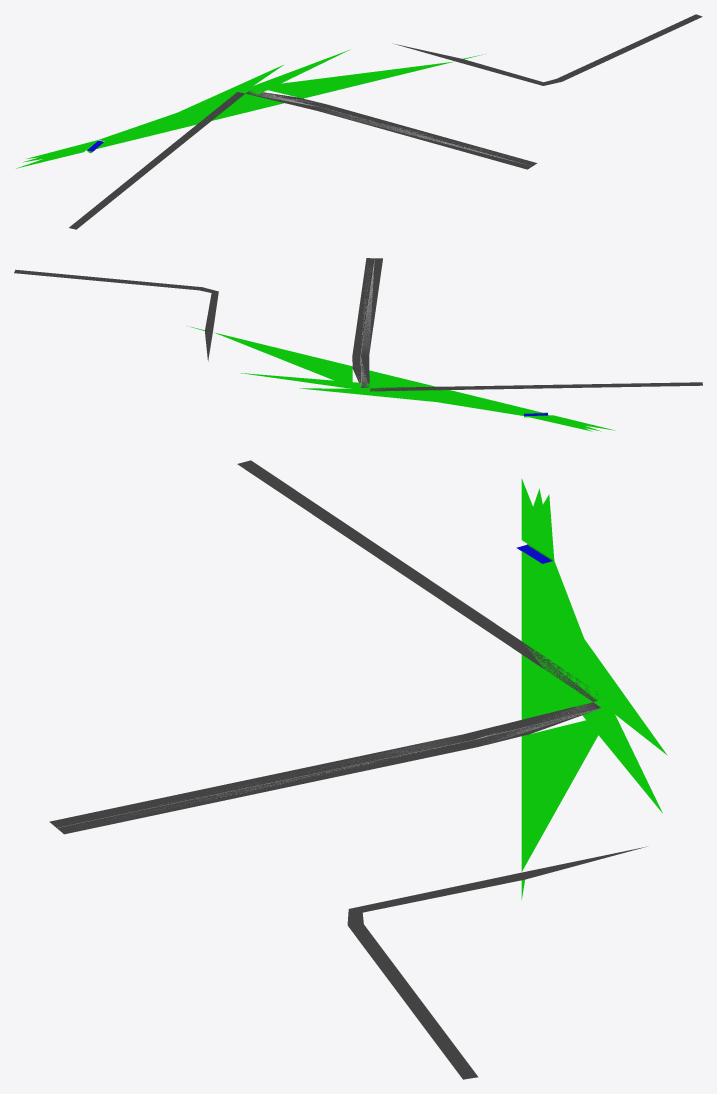
The picture shows the model from 3 angles, top to bottom: view 1: azimuth 30°, elevation 25°; view 2: azimuth 150°, elevation 25°; view 3: azimuth 270°, elevation 25°; orthographic projection. The views are drawn at different scales.
Size of the model in its own units: 310 by 1 by 131.
